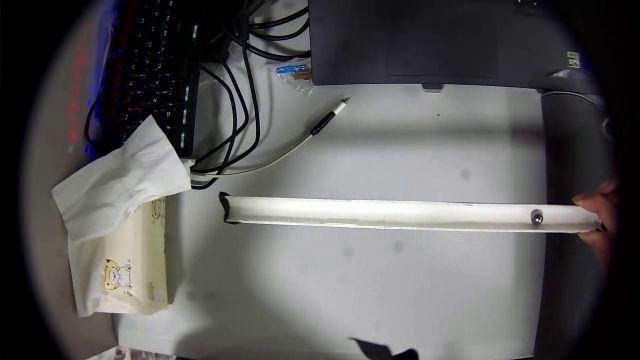gangzhu: (527, 207, 544, 225)
